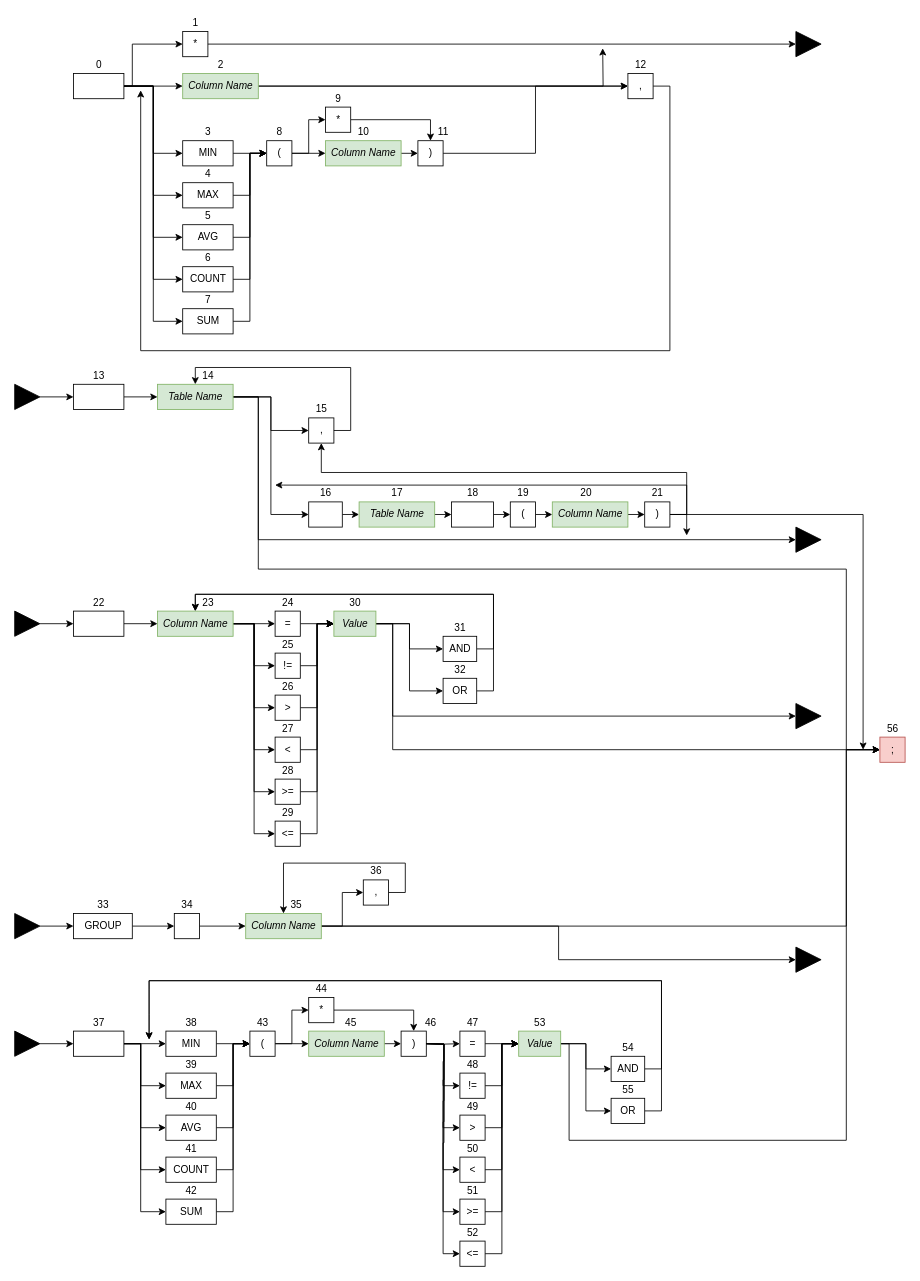
Image size: 920x1281. Some labels were removed from this diagram. Here are the shapes that lost their labels. From the top down, the centre of each, then its label:
At point 98,86: "SELECT".
At point 98,396: "FROM".
At point 325,514: "JOIN".
At point 472,514: "USING".
At point 98,623: "WHERE".
At point 186,926: "BY".
At point 98,1043: "HAVING".
